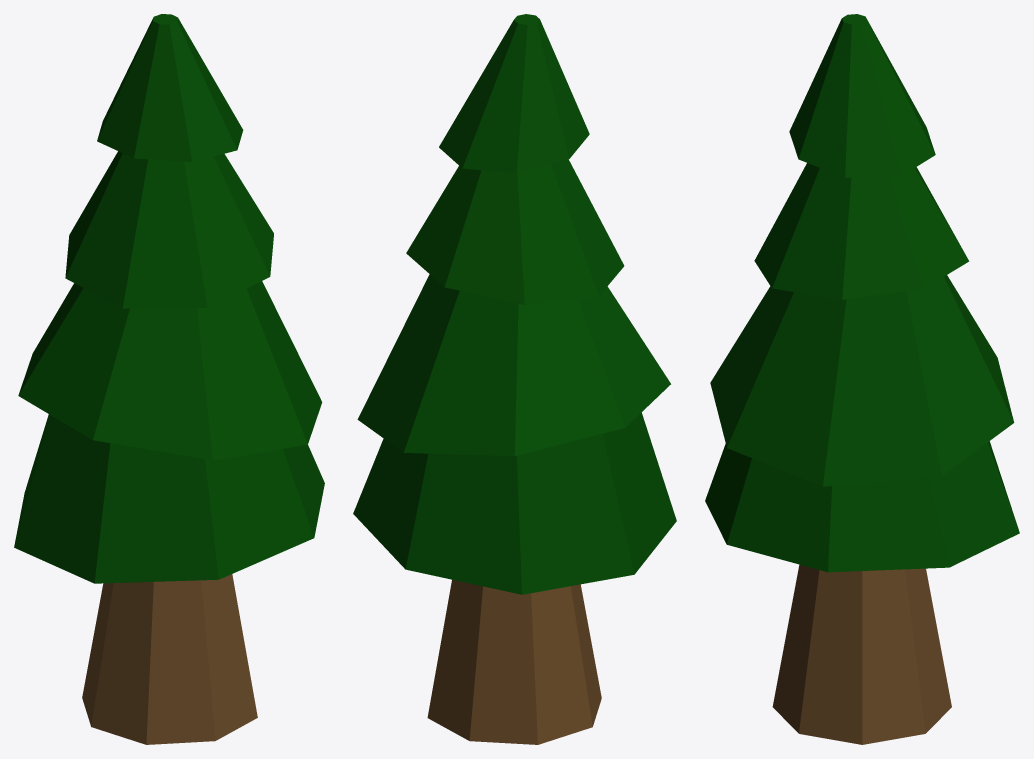
The model's file is Tanne.fbx.
The picture shows the model from 3 angles, left to right: view 1: azimuth 30°, elevation 25°; view 2: azimuth 150°, elevation 25°; view 3: azimuth 270°, elevation 25°; orthographic projection.
Parts seen in each view (by area): view 1: Tree; view 2: Tree; view 3: Tree.
Part boxes in pixels (box(x1,y1,x2,y2)): Tree: box(14, 14, 324, 744); Tree: box(353, 14, 676, 744); Tree: box(705, 14, 1019, 744).
Bounding box in the file's own units: 283 × 679 × 284.
